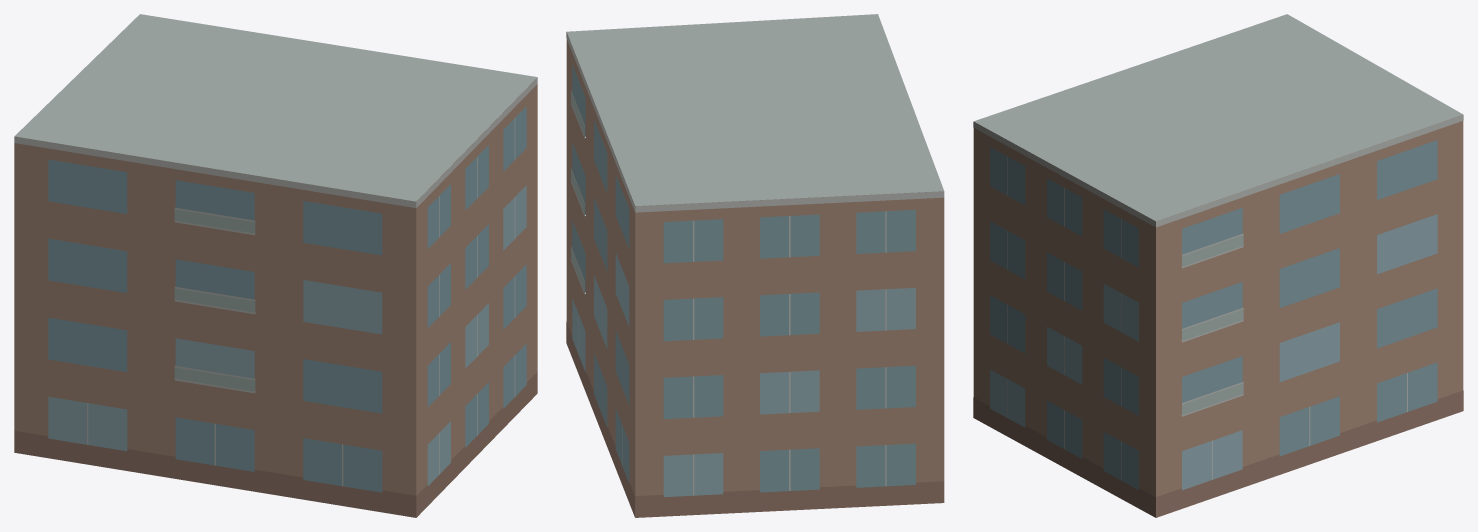
File: survey-upis-32646858.glb
The picture shows the model from 3 angles, left to right: view 1: azimuth 30°, elevation 25°; view 2: azimuth 150°, elevation 25°; view 3: azimuth 270°, elevation 25°; orthographic projection. The views are drawn at different scales.
Parts seen in each view (by area): view 1: survey-upis-32646858.tmp; view 2: survey-upis-32646858.tmp; view 3: survey-upis-32646858.tmp.
Part boxes in pixels (x1,y1,x2,y2): survey-upis-32646858.tmp: (14, 14, 537, 517); survey-upis-32646858.tmp: (566, 14, 944, 517); survey-upis-32646858.tmp: (973, 14, 1463, 517).
Size of the model in its own units: 17.63 by 11.75 by 17.6.
